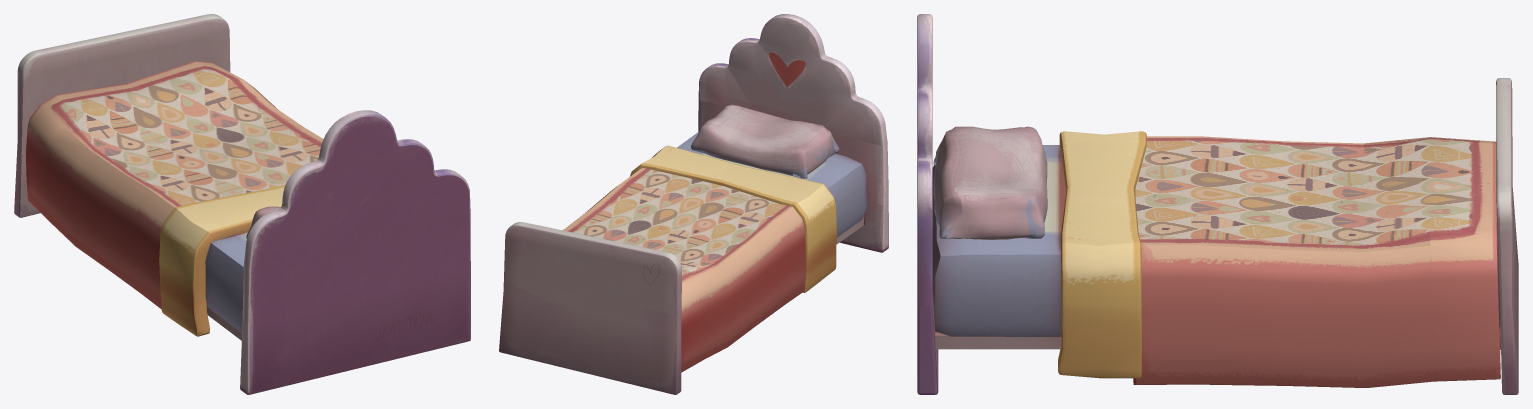
The model's file is bed.fbx.
The picture shows the model from 3 angles, left to right: view 1: azimuth 30°, elevation 25°; view 2: azimuth 150°, elevation 25°; view 3: azimuth 270°, elevation 25°; orthographic projection. The views are drawn at different scales.
Parts seen in each view (by area): view 1: tex (22); view 2: tex (22); view 3: tex (22).
Boxes of the visible parts, x1=… form: tex (22): x1=14, y1=14, x2=470, y2=394; tex (22): x1=499, y1=14, x2=888, y2=394; tex (22): x1=917, y1=14, x2=1518, y2=394.
Size of the model in its own units: 455 by 490 by 861.
1 material, 1 textured.
